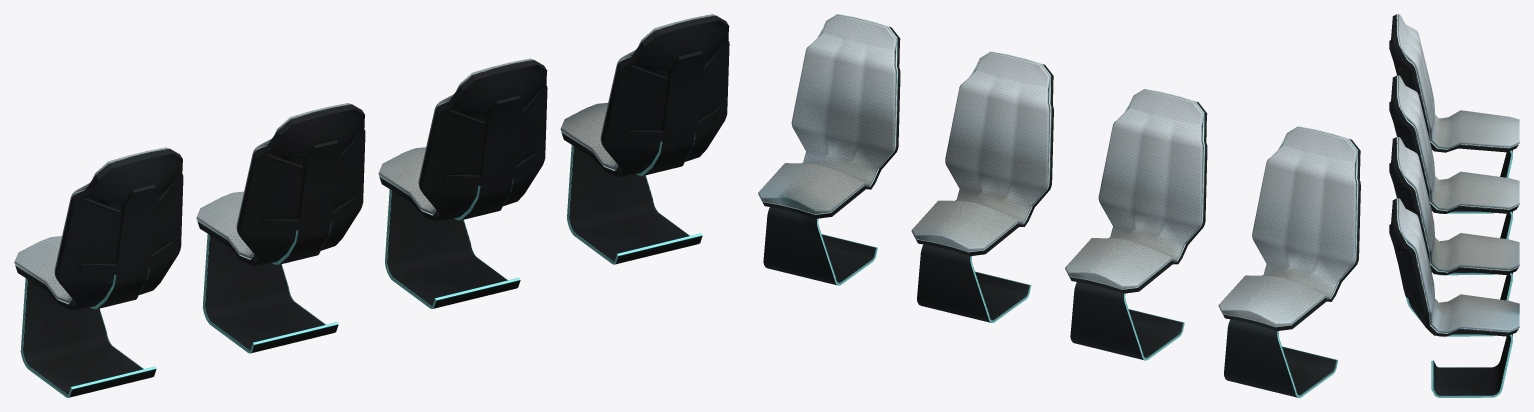
Rendered from SciFi_Conf_Room_Chair_Set02.FBX.
The picture shows the model from 3 angles, left to right: view 1: azimuth 30°, elevation 25°; view 2: azimuth 150°, elevation 25°; view 3: azimuth 270°, elevation 25°; orthographic projection. The views are drawn at different scales.
Visible parts, largest first — view 1: SciFi_Conf_Room_Chair_05, SciFi_Conf_Room_Chair_06, SciFi_Conf_Room_Chair_03, SciFi_Conf_Room_Chair_04; view 2: SciFi_Conf_Room_Chair_03, SciFi_Conf_Room_Chair_06, SciFi_Conf_Room_Chair_04, SciFi_Conf_Room_Chair_05; view 3: SciFi_Conf_Room_Chair_06, SciFi_Conf_Room_Chair_05, SciFi_Conf_Room_Chair_03, SciFi_Conf_Room_Chair_04.
Part boxes in pixels (left/top/right/bottom): SciFi_Conf_Room_Chair_05: left=378, top=58, right=547, bottom=308; SciFi_Conf_Room_Chair_06: left=560, top=14, right=729, bottom=264; SciFi_Conf_Room_Chair_03: left=14, top=147, right=183, bottom=397; SciFi_Conf_Room_Chair_04: left=196, top=103, right=365, bottom=353; SciFi_Conf_Room_Chair_03: left=1218, top=126, right=1360, bottom=397; SciFi_Conf_Room_Chair_06: left=758, top=14, right=900, bottom=285; SciFi_Conf_Room_Chair_04: left=1065, top=89, right=1207, bottom=360; SciFi_Conf_Room_Chair_05: left=911, top=51, right=1053, bottom=322; SciFi_Conf_Room_Chair_06: left=1389, top=198, right=1519, bottom=397; SciFi_Conf_Room_Chair_05: left=1389, top=137, right=1519, bottom=336; SciFi_Conf_Room_Chair_03: left=1389, top=14, right=1519, bottom=213; SciFi_Conf_Room_Chair_04: left=1389, top=75, right=1519, bottom=275.
Size of the model in its own units: 3574 by 1302 by 873.
